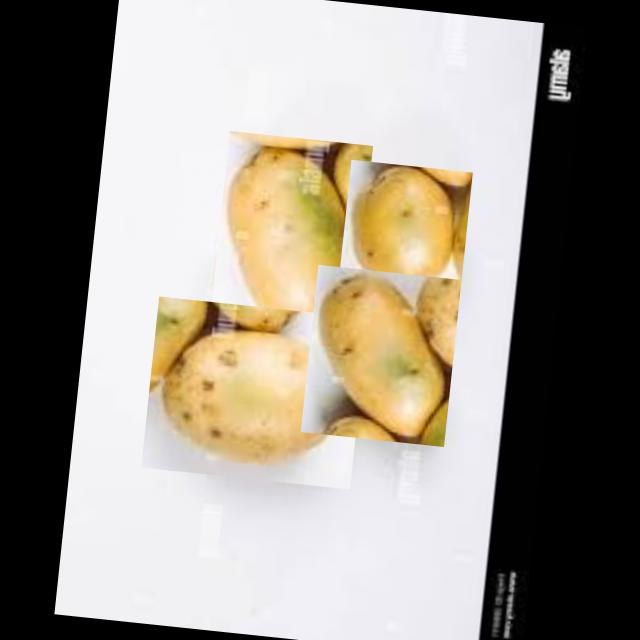Defected potato: (140, 295, 368, 488), (208, 130, 372, 352), (300, 264, 461, 446), (338, 158, 472, 300)
